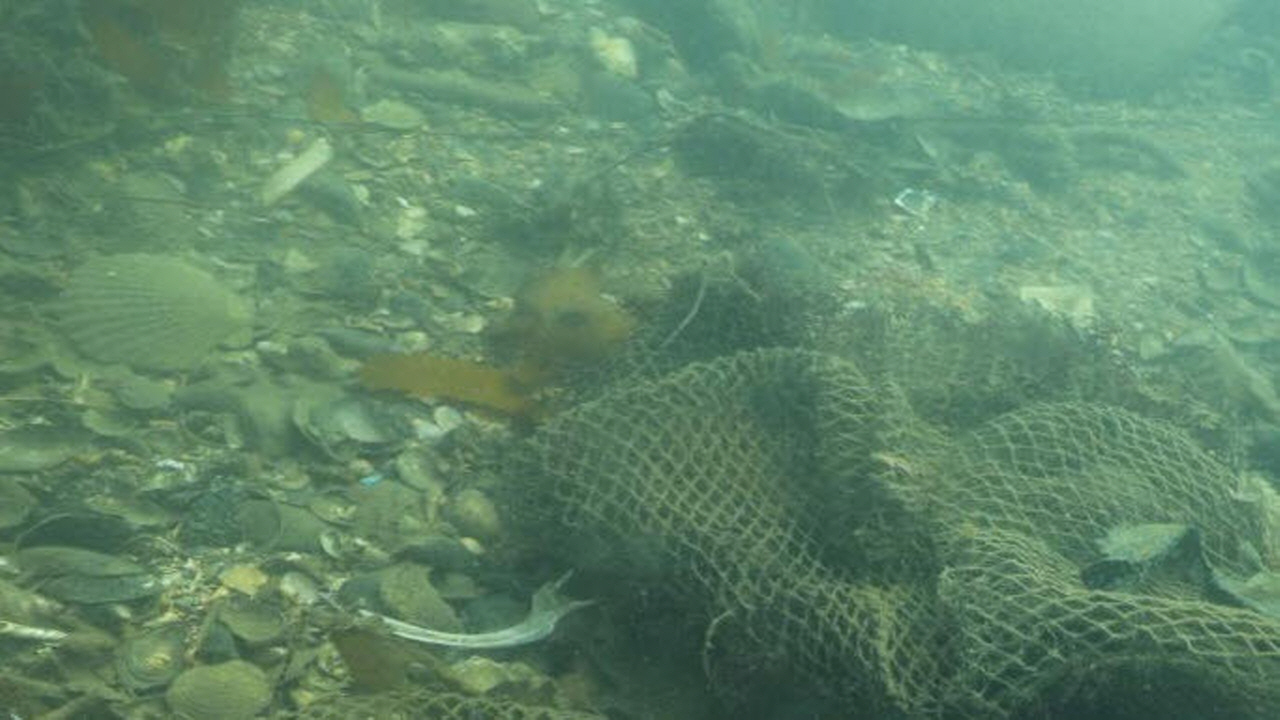fish net: (501, 303, 1280, 720)
